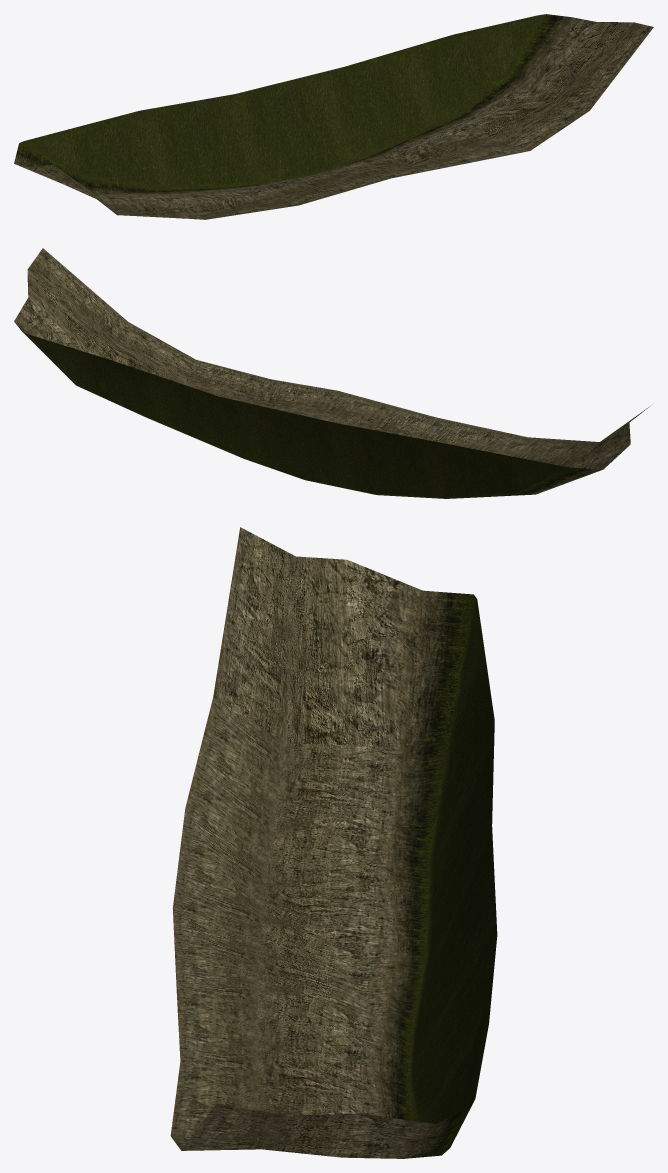
File: MEP_Edge_01_j.fbx
3 views of the same model, one above another, from view 1: azimuth 30°, elevation 25°; view 2: azimuth 150°, elevation 25°; view 3: azimuth 270°, elevation 25° (orthographic). The views are drawn at different scales.
Parts seen in each view (by area): view 1: MEP_Edge_01_j; view 2: MEP_Edge_01_j; view 3: MEP_Edge_01_j.
Boxes of the visible parts, left/top/right/bottom form: MEP_Edge_01_j: left=14, top=14, right=653, bottom=219; MEP_Edge_01_j: left=14, top=248, right=649, bottom=498; MEP_Edge_01_j: left=170, top=527, right=497, bottom=1158.
Size of the model in its own units: 191 by 34.89 by 45.41.
Materials: 1 (1 with a texture image).
